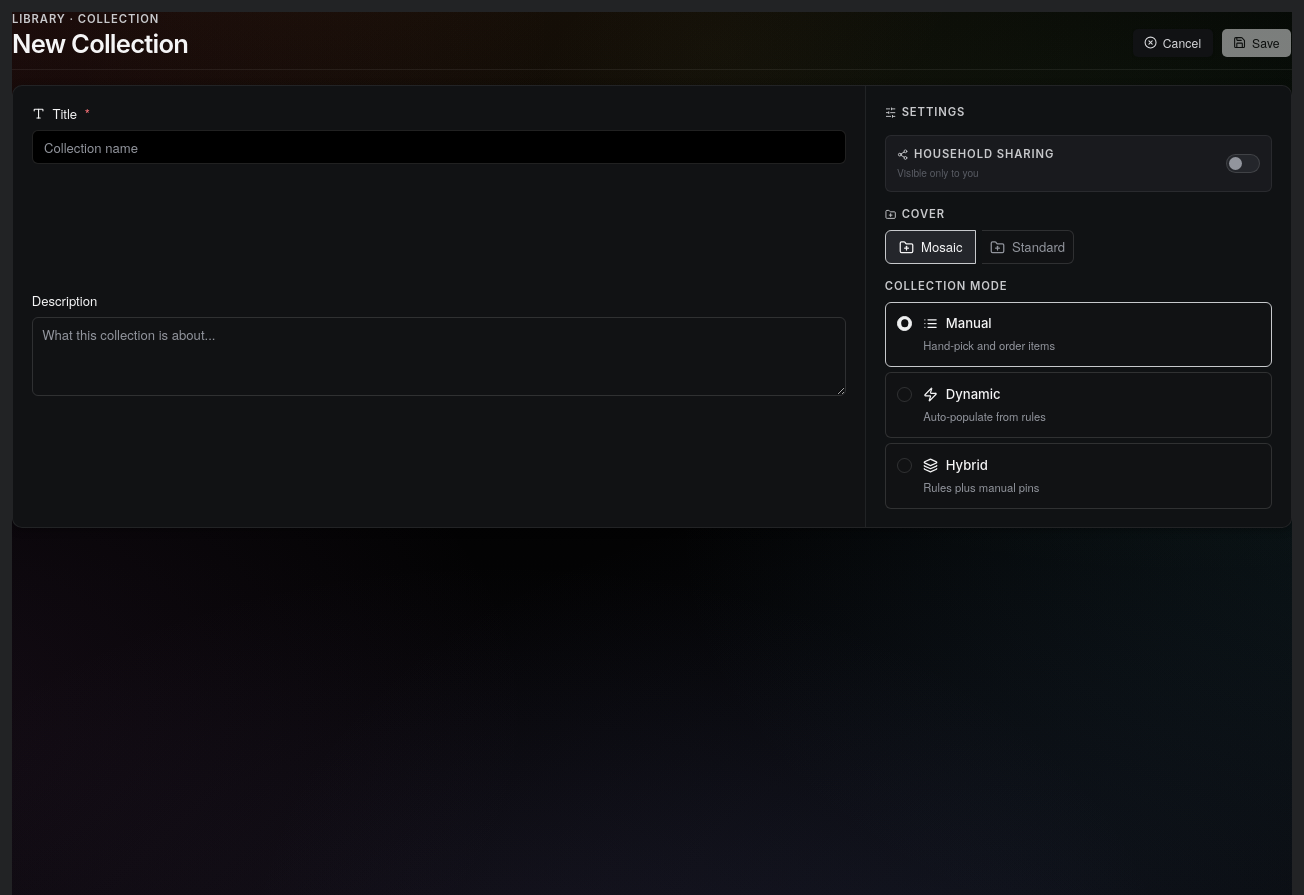
Test: collection rule preview › does not claim there are no matches when sample cards are unavailable
Type "Draft" into the field labelled "Title *".
click(439, 147); type("Draft")  # box [32,130,846,164]
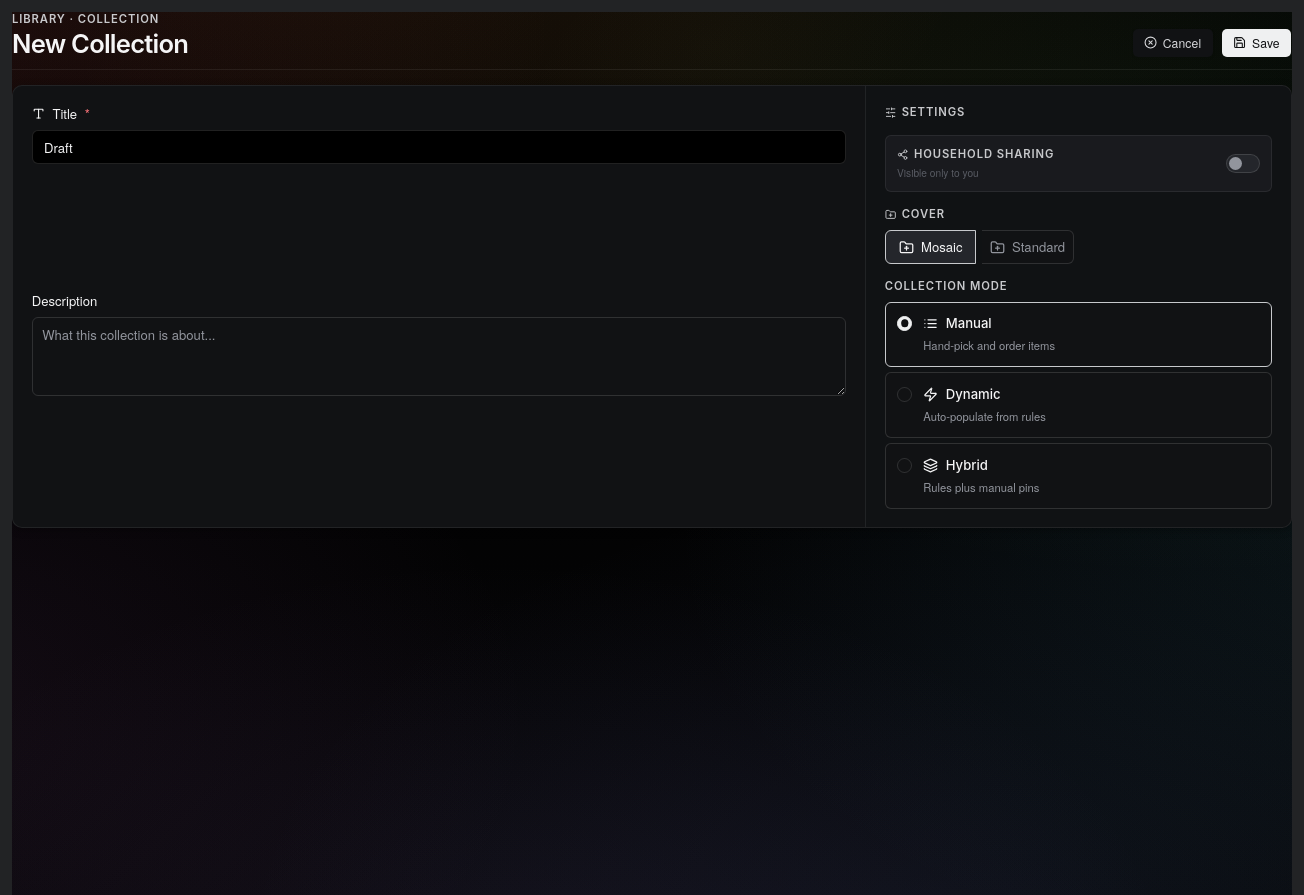
Click the radio button named "Dynamic".
click(904, 394)  # box [897,387,912,402]
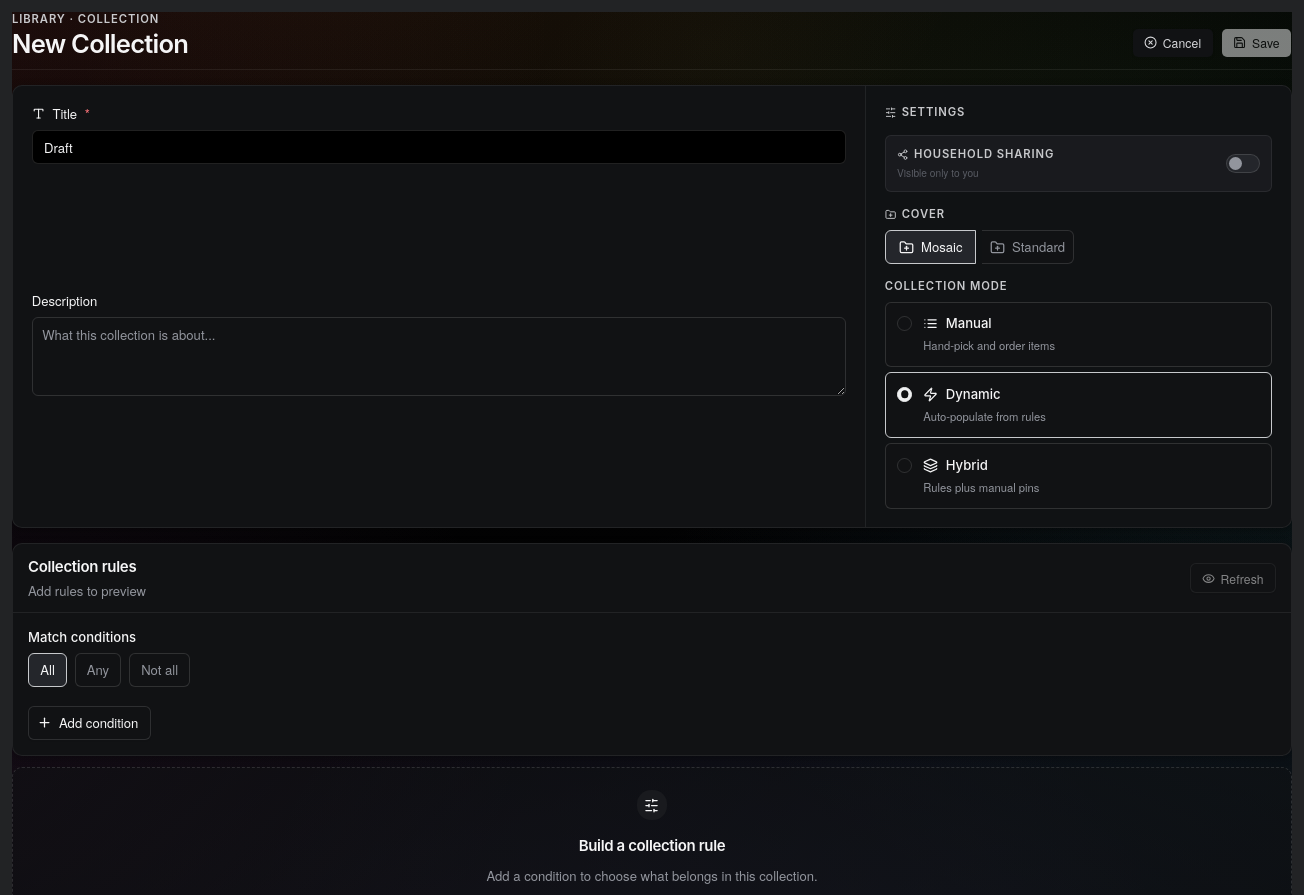
Click the button "Add condition".
click(89, 723)  # box [28,706,151,740]
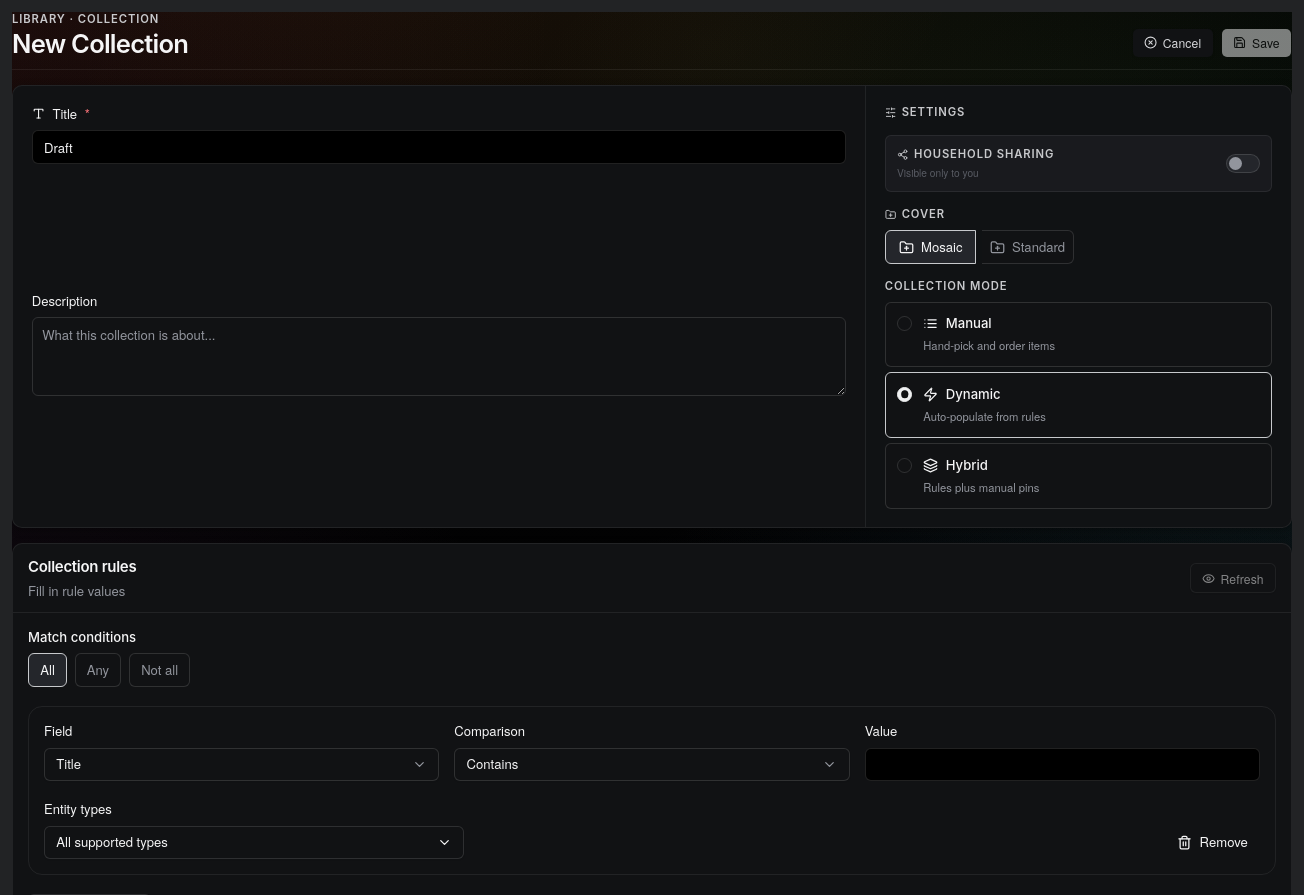
Type "cats" into the field named "Text value".
click(1062, 764); type("cats")  # box [865,748,1260,781]
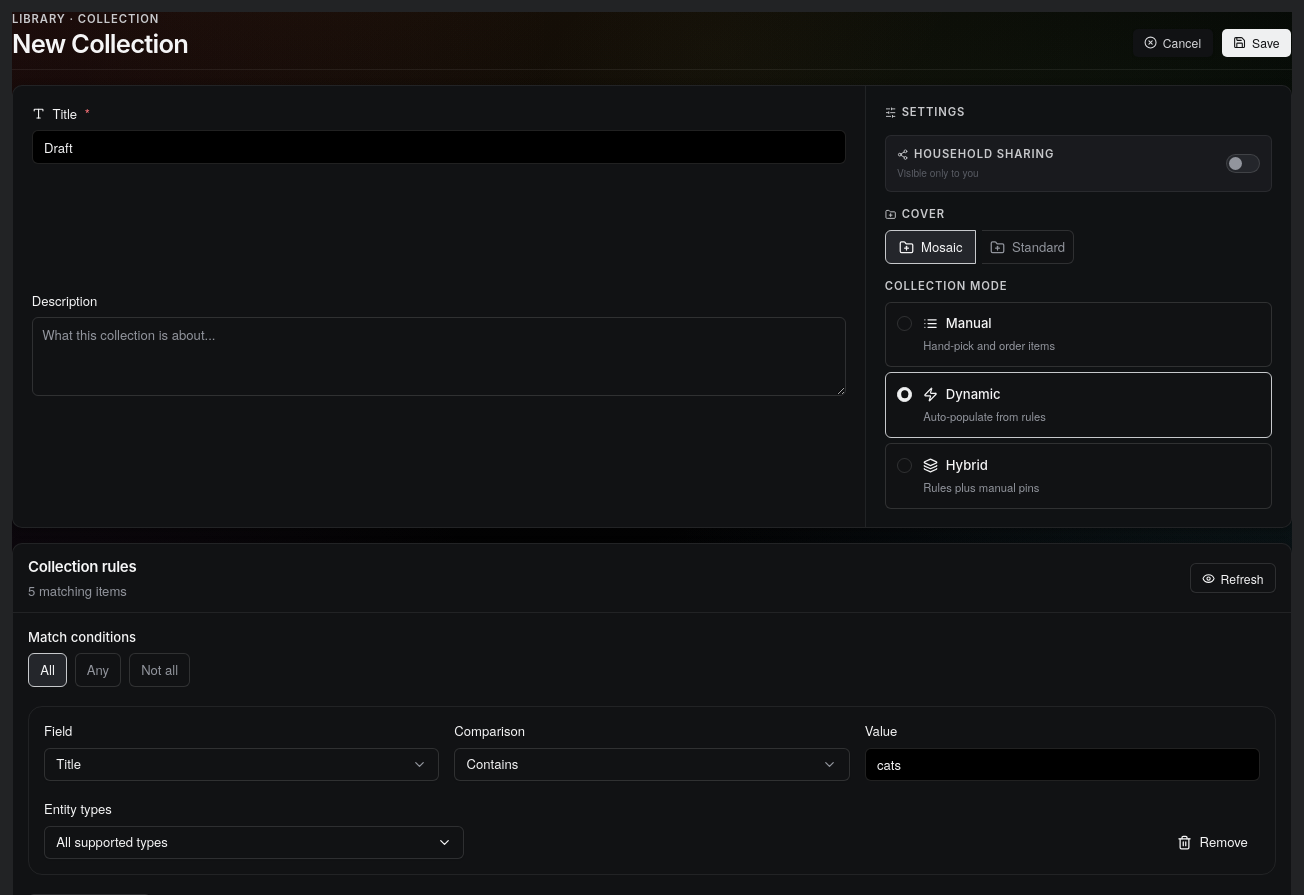
Now the text "5 matching items" is shown, box [28,582,136,601]
